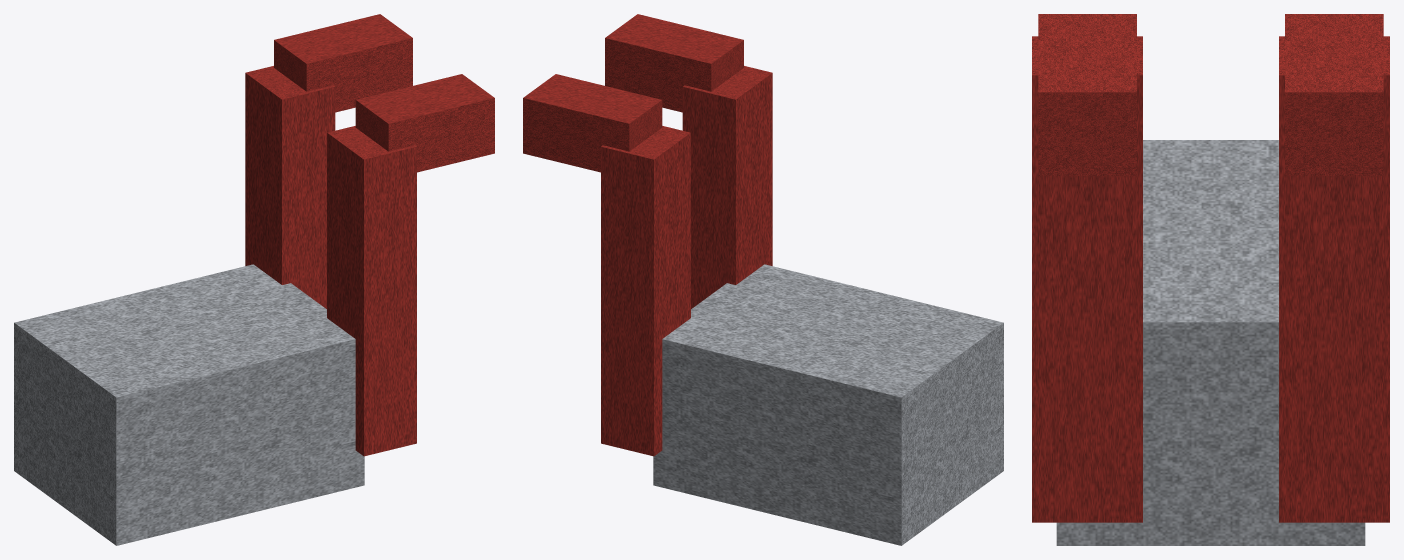
File: gripper.obj
The picture shows the model from 3 angles, left to right: view 1: azimuth 30°, elevation 25°; view 2: azimuth 150°, elevation 25°; view 3: azimuth 270°, elevation 25°; orthographic projection. The views are drawn at different scales.
Size of the model in its own units: 0.105 by 0.0975 by 0.058.
Materials: 2 (2 with a texture image).
